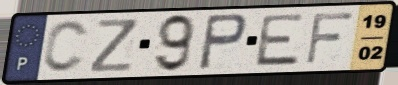9: (153, 12, 197, 74)
C: (40, 19, 91, 75)
E: (252, 12, 308, 69)
F: (303, 10, 357, 67)
P: (196, 12, 249, 72)
Z: (88, 17, 140, 74)
